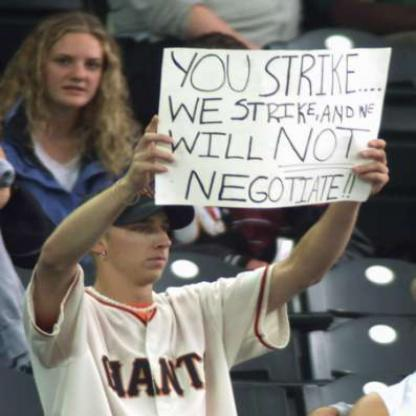face: (103, 183, 179, 285), (40, 15, 112, 109)
